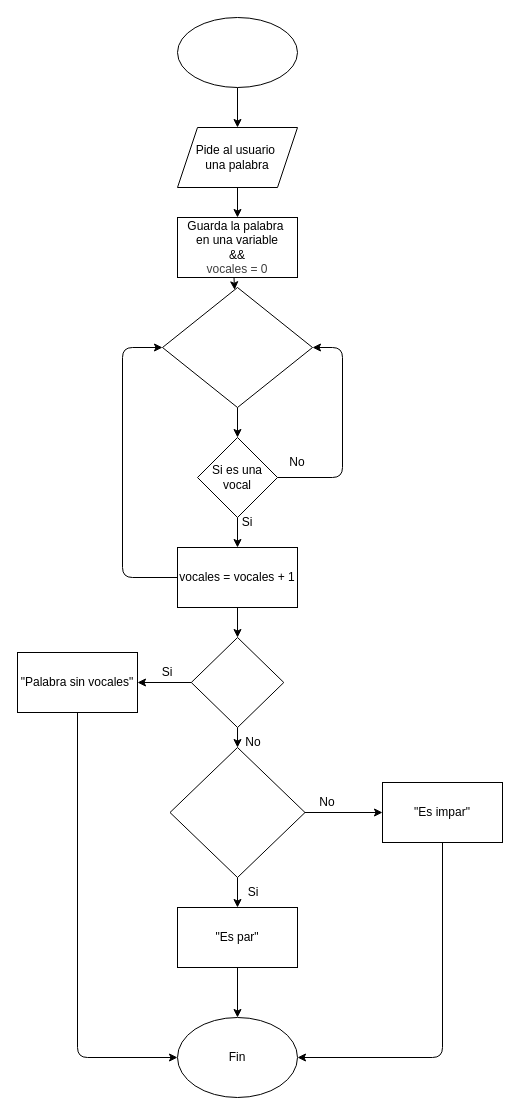
This 520x1115 diagram has some shape labels left out. The centre of each missing label's shape, as x and y in pixels:
"Inicio" belongs at (237,52).
"Recorre la variable palabra hasta que no queden letras" belongs at (237,347).
"Si el resto de la division de vocales entre 2 es 0" belongs at (237,812).
"Si vocales = 0" belongs at (237,682).
